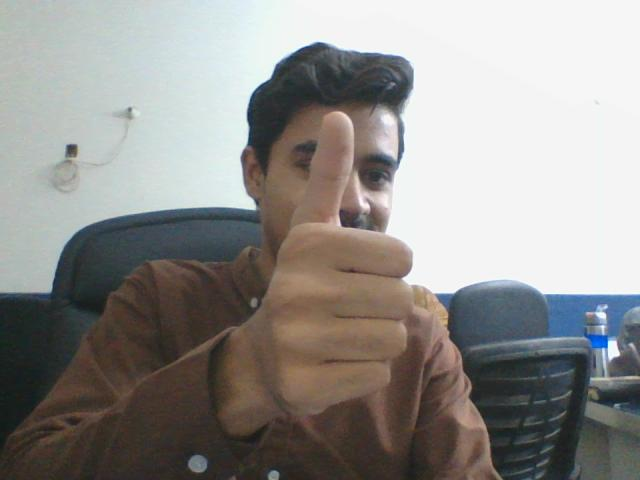thumbs-up: (262, 107, 429, 406)
